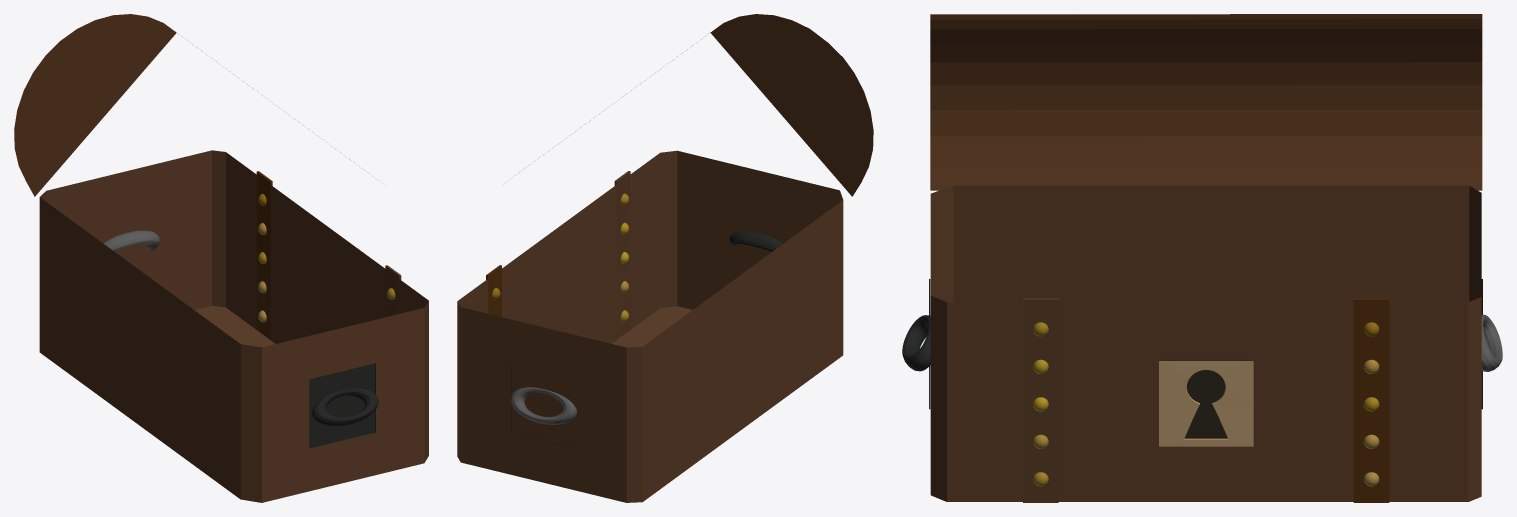
File: chestLong.fbx
3 views of the same model, side by side, from view 1: azimuth 30°, elevation 25°; view 2: azimuth 150°, elevation 25°; view 3: azimuth 270°, elevation 25° (orthographic). The views are drawn at different scales.
Parts seen in each view (by area): view 1: ChestTop; view 2: ChestTop; view 3: ChestTop.
Part boxes in pixels (box(x1,y1,x2,y2)): ChestTop: box(14, 14, 428, 502); ChestTop: box(457, 14, 873, 502); ChestTop: box(902, 14, 1502, 502).
Bounding box in the file's own units: 230 × 324 × 436.
